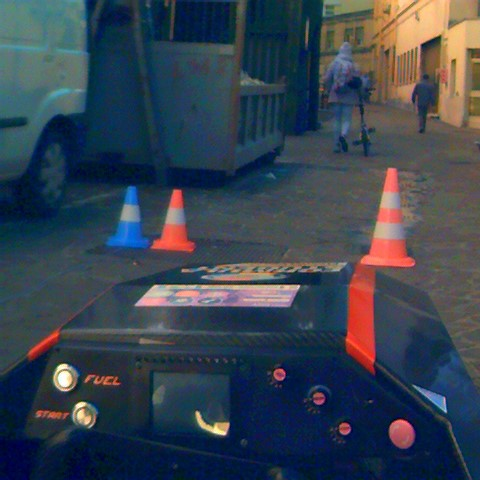cone: (106, 186, 153, 249)
